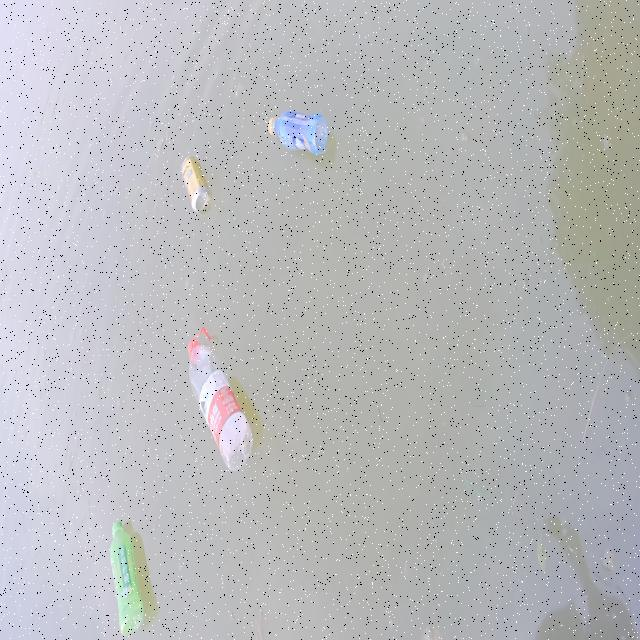Bottle: (185, 325, 256, 473), (105, 509, 152, 638), (265, 100, 331, 160)
Can: (178, 153, 212, 214)
